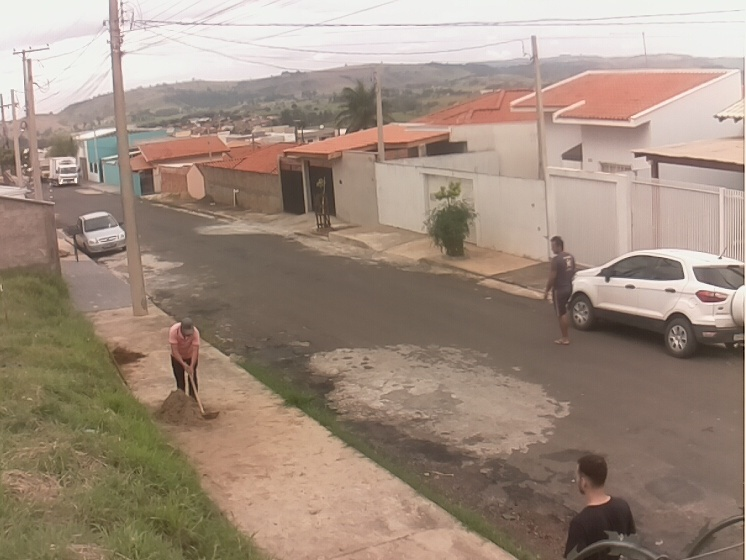person: (564, 454, 634, 560), (543, 236, 578, 347), (167, 316, 201, 402)
